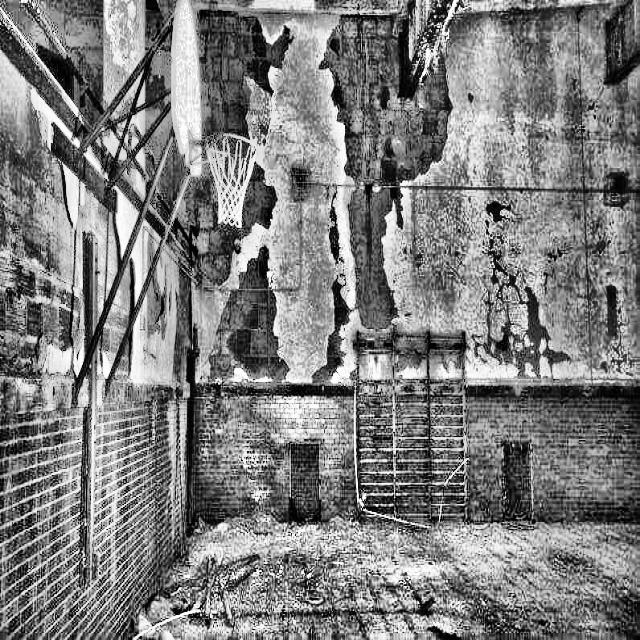rim: (204, 133, 258, 227)
